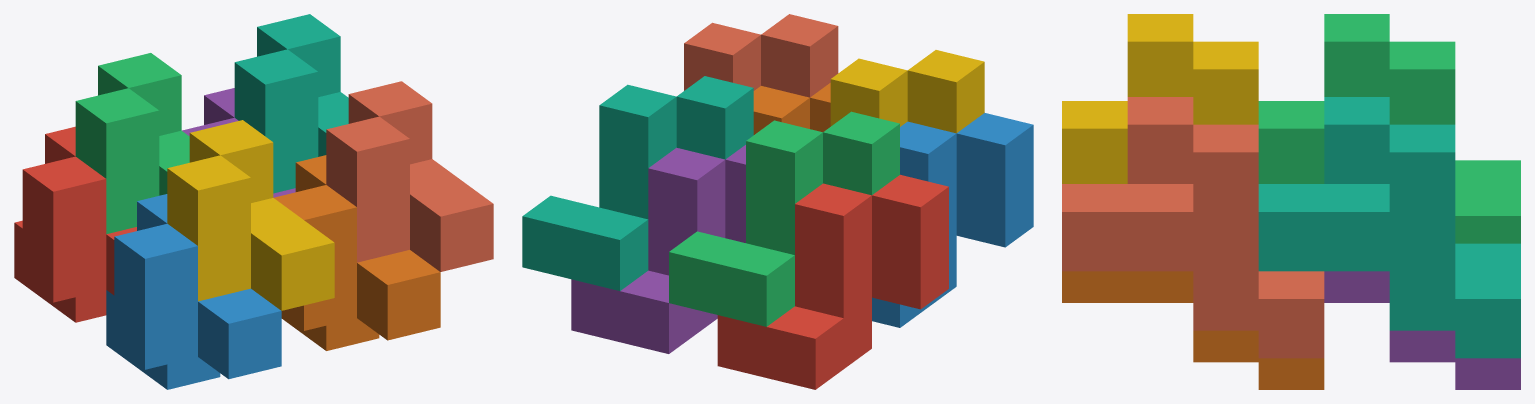
The model's file is tiling.obj.
3 renders of one model, left to right at view 1: azimuth 30°, elevation 25°; view 2: azimuth 150°, elevation 25°; view 3: azimuth 270°, elevation 25°, orthographic. The views are drawn at different scales.
Parts seen in each view (by area): view 1: copy_1_domain_4, copy_1_domain_8, copy_1_domain_2, copy_1_domain_6, copy_1_domain_1, copy_1_domain_3, copy_1_domain_7, copy_1_domain_5; view 2: copy_1_domain_1, copy_1_domain_7, copy_1_domain_3, copy_1_domain_5, copy_1_domain_2, copy_1_domain_4, copy_1_domain_8, copy_1_domain_6; view 3: copy_1_domain_7, copy_1_domain_8, copy_1_domain_3, copy_1_domain_4, copy_1_domain_6, copy_1_domain_5.
Boxes of the visible parts, bbox=[...] form: copy_1_domain_4: bbox=[167, 120, 334, 310]; copy_1_domain_8: bbox=[326, 81, 493, 271]; copy_1_domain_2: bbox=[106, 194, 281, 389]; copy_1_domain_6: bbox=[273, 155, 440, 350]; copy_1_domain_1: bbox=[14, 126, 136, 322]; copy_1_domain_3: bbox=[75, 53, 189, 234]; copy_1_domain_7: bbox=[234, 14, 348, 193]; copy_1_domain_5: bbox=[182, 88, 295, 197]; copy_1_domain_1: bbox=[717, 174, 948, 389]; copy_1_domain_7: bbox=[522, 76, 753, 290]; copy_1_domain_3: bbox=[669, 111, 899, 326]; copy_1_domain_5: bbox=[571, 145, 745, 353]; copy_1_domain_2: bbox=[872, 113, 1033, 327]; copy_1_domain_4: bbox=[830, 50, 984, 133]; copy_1_domain_8: bbox=[684, 14, 838, 97]; copy_1_domain_6: bbox=[753, 83, 830, 134]; copy_1_domain_7: bbox=[1258, 97, 1520, 358]; copy_1_domain_8: bbox=[1062, 97, 1324, 358]; copy_1_domain_3: bbox=[1258, 14, 1520, 243]; copy_1_domain_4: bbox=[1062, 14, 1258, 183]; copy_1_domain_6: bbox=[1062, 271, 1324, 389]; copy_1_domain_5: bbox=[1324, 271, 1520, 389].
Bounding box in the file's own units: 7 × 4 × 7.
